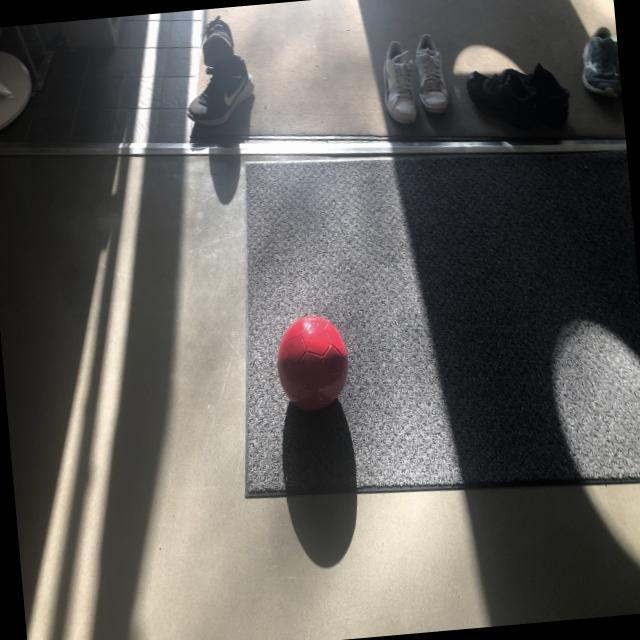red_ball: (272, 313, 354, 417)
